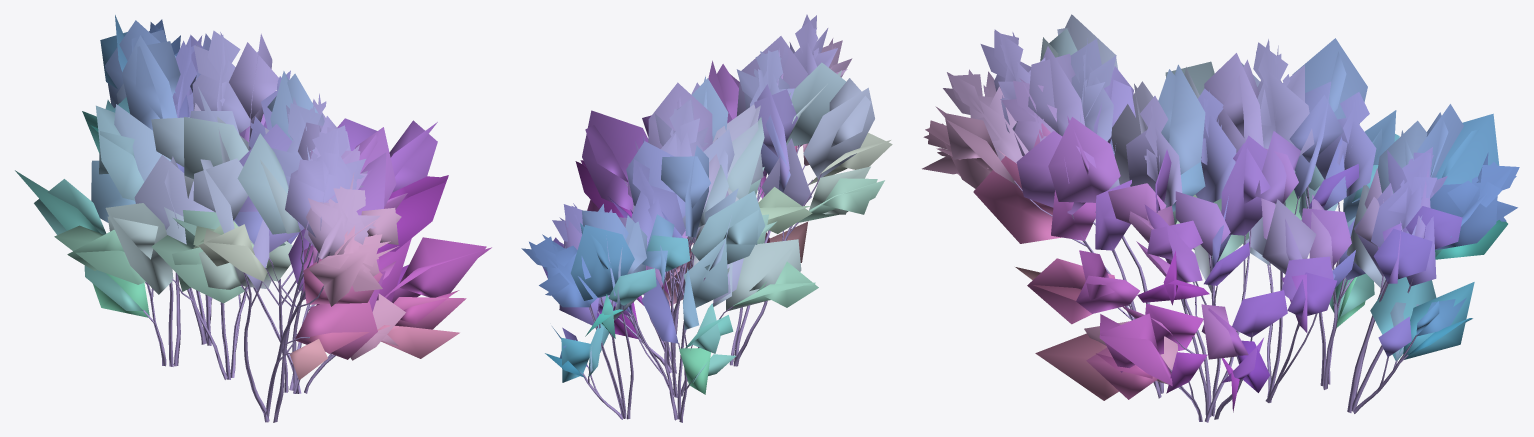
The picture shows the model from 3 angles, left to right: view 1: azimuth 30°, elevation 25°; view 2: azimuth 150°, elevation 25°; view 3: azimuth 270°, elevation 25°; orthographic projection. The views are drawn at different scales.
Visible parts, largest first — view 1: SM_BS_Retama_320cm_HD; view 2: SM_BS_Retama_320cm_HD; view 3: SM_BS_Retama_320cm_HD.
Part boxes in pixels (bbox=[...]): SM_BS_Retama_320cm_HD: bbox=[15, 15, 491, 422]; SM_BS_Retama_320cm_HD: bbox=[521, 14, 892, 422]; SM_BS_Retama_320cm_HD: bbox=[922, 14, 1519, 422].
Bounding box in the file's own units: 175 × 119 × 116.
